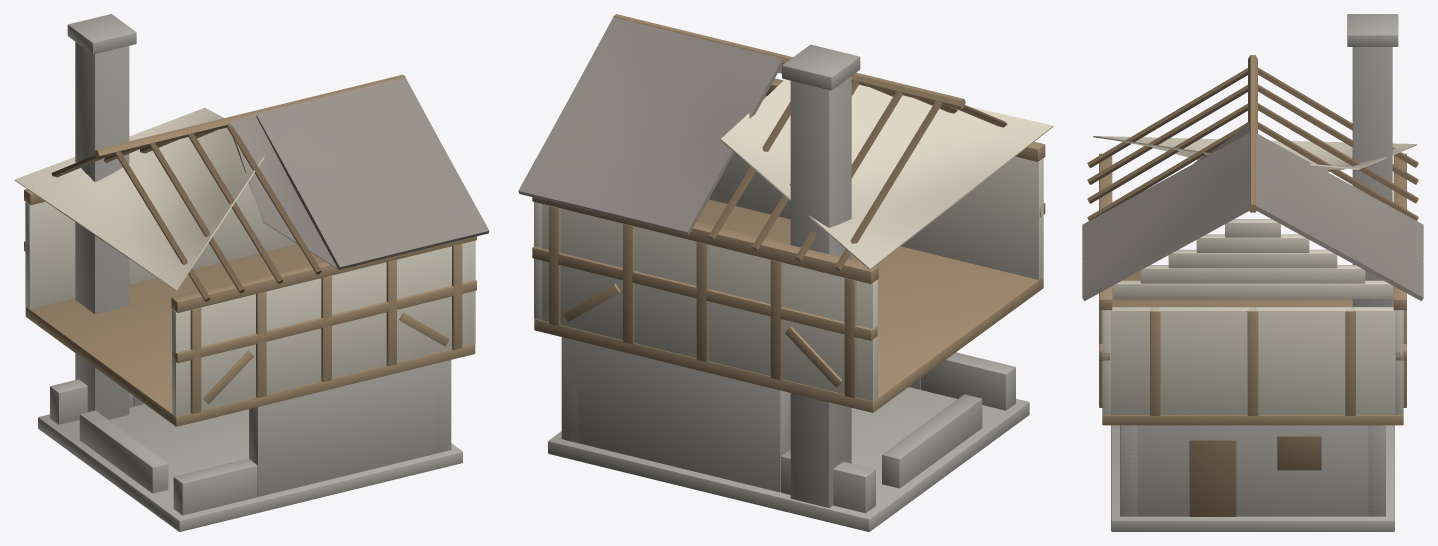
Rendered from ruin_tudor.glb.
3 views of the same model, side by side, from view 1: azimuth 30°, elevation 25°; view 2: azimuth 150°, elevation 25°; view 3: azimuth 270°, elevation 25° (orthographic). The views are drawn at different scales.
Parts seen in each view (by area): view 1: ruin_tudor; view 2: ruin_tudor; view 3: ruin_tudor.
Boxes of the visible parts, x1=… form: ruin_tudor: x1=14, y1=14, x2=489, y2=531; ruin_tudor: x1=518, y1=14, x2=1053, y2=531; ruin_tudor: x1=1082, y1=14, x2=1423, y2=531.
Size of the model in its own units: 8.01 by 9.84 by 7.7.
